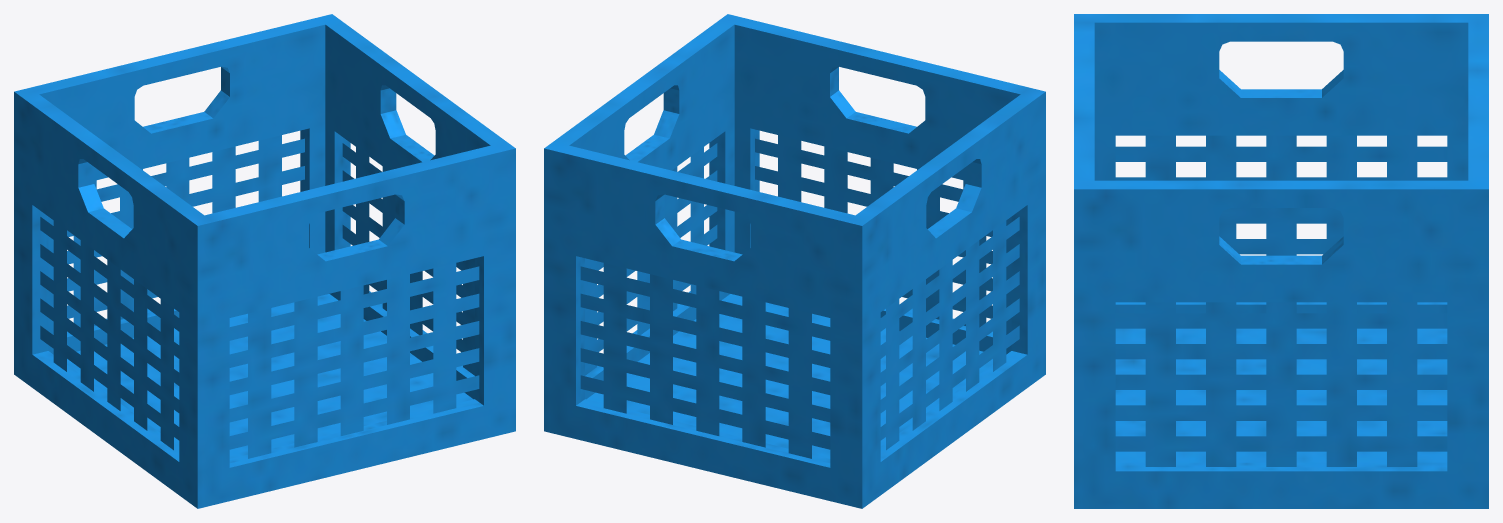
The model's file is Milkcrate.fbx.
The picture shows the model from 3 angles, left to right: view 1: azimuth 30°, elevation 25°; view 2: azimuth 150°, elevation 25°; view 3: azimuth 270°, elevation 25°; orthographic projection. The views are drawn at different scales.
Visible parts, largest first — view 1: MilkCrate; view 2: MilkCrate; view 3: MilkCrate.
Boxes of the visible parts, <box> form: MilkCrate: <box>14,14,515,508</box>; MilkCrate: <box>544,14,1045,508</box>; MilkCrate: <box>1074,14,1488,508</box>.
Bounding box in the file's own units: 39.09 × 33.22 × 39.09.
1 material, 1 textured.
